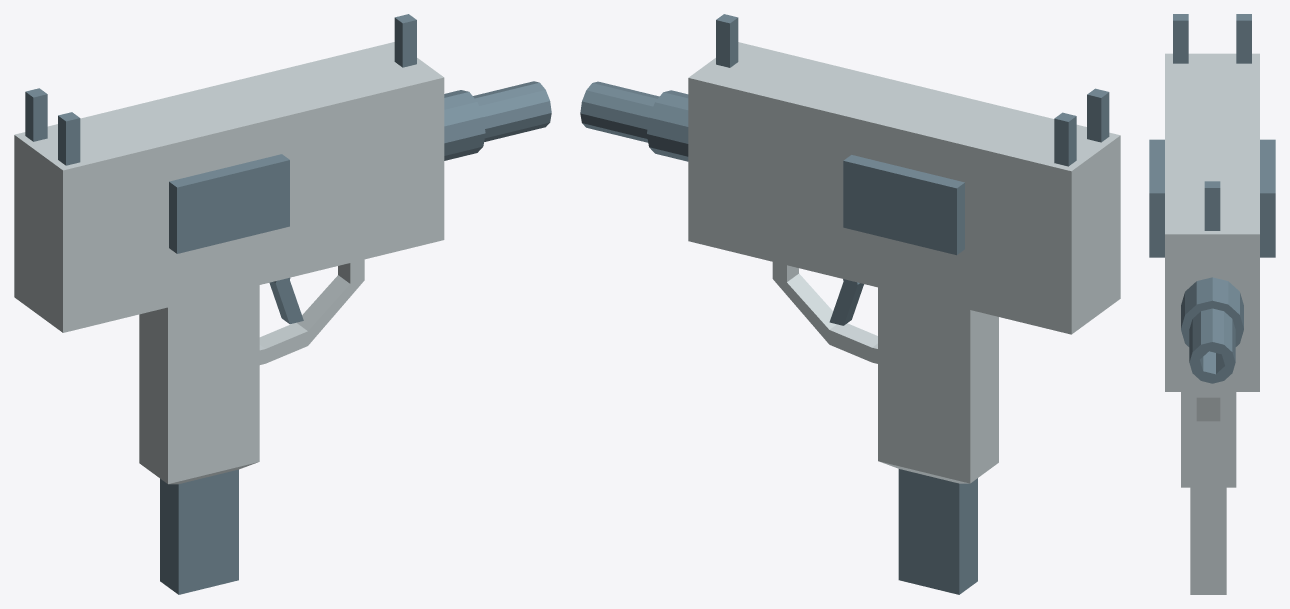
Rendered from Uzi.glb.
3 renders of one model, left to right at view 1: azimuth 30°, elevation 25°; view 2: azimuth 150°, elevation 25°; view 3: azimuth 270°, elevation 25°, orthographic. The views are drawn at different scales.
Parts seen in each view (by area): view 1: group1487853911, group1708819615, group47982412, group1115432163, group1330485529, group216373091, group1286593356, group594497910, group270998664; view 2: group1487853911, group1708819615, group47982412, group1115432163, group1330485529, group216373091, group1286593356, group594497910, group270998664; view 3: group1487853911, group1708819615, group1115432163, group47982412, group594497910, group216373091, group1286593356, group1330485529.
Boxes of the visible parts, box(x1,y1,x2,y2) form: group1487853911: box(14, 42, 444, 332); group1708819615: box(139, 285, 259, 594); group47982412: box(169, 154, 289, 253); group1115432163: box(444, 81, 551, 160); group1330485529: box(259, 259, 364, 364); group216373091: box(25, 88, 47, 141); group1286593356: box(58, 112, 80, 165); group594497910: box(394, 14, 416, 67); group270998664: box(269, 277, 303, 324); group1487853911: box(688, 42, 1120, 334); group1708819615: box(878, 287, 998, 594); group47982412: box(843, 155, 964, 255); group1115432163: box(580, 81, 688, 161); group1330485529: box(772, 262, 877, 363); group216373091: box(1054, 112, 1076, 166); group1286593356: box(1087, 88, 1109, 142); group594497910: box(716, 14, 738, 67); group270998664: box(829, 279, 863, 325); group1487853911: box(1165, 53, 1259, 391); group1708819615: box(1181, 392, 1236, 594); group1115432163: box(1181, 277, 1243, 383); group47982412: box(1149, 139, 1275, 257); group594497910: box(1204, 181, 1220, 230); group216373091: box(1236, 14, 1251, 63); group1286593356: box(1173, 14, 1188, 63); group1330485529: box(1196, 392, 1220, 421).
Size of the model in its own units: 0.71 by 0.69 by 0.16.
